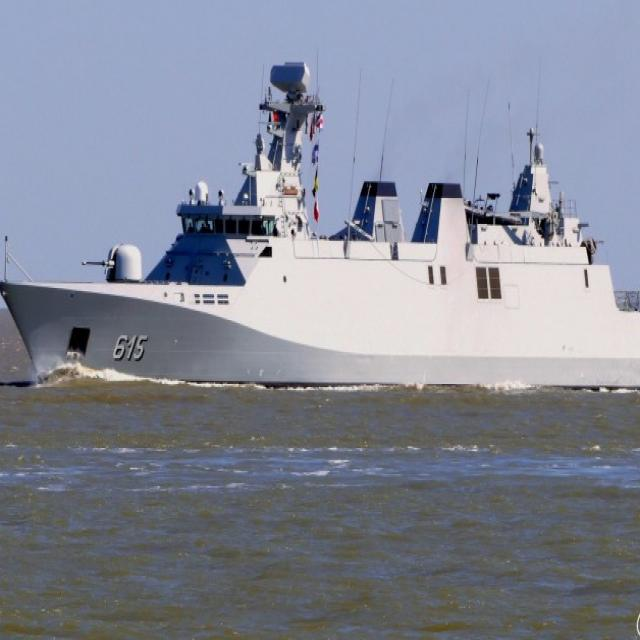Fragata: (1, 61, 640, 393)
